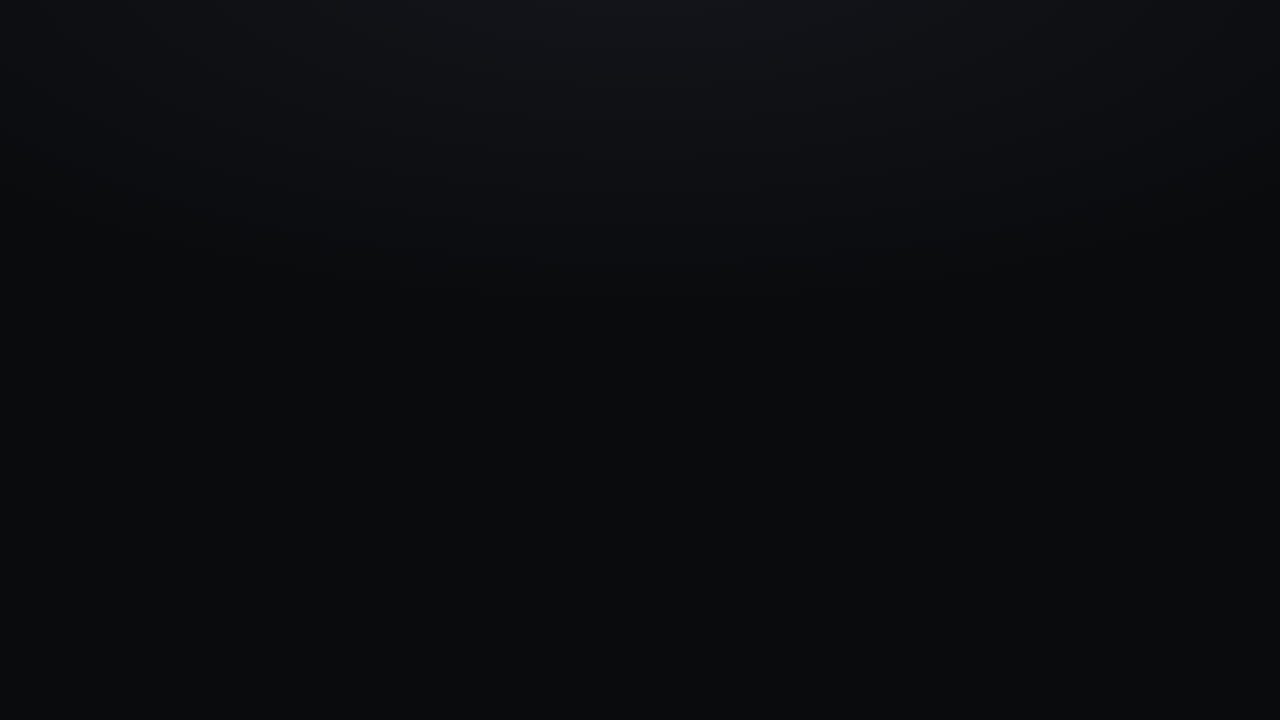
CommandPalette (⌘K fuzzy + recents + keyboard nav) › typing fuzzy-filters via rankTools
Press k
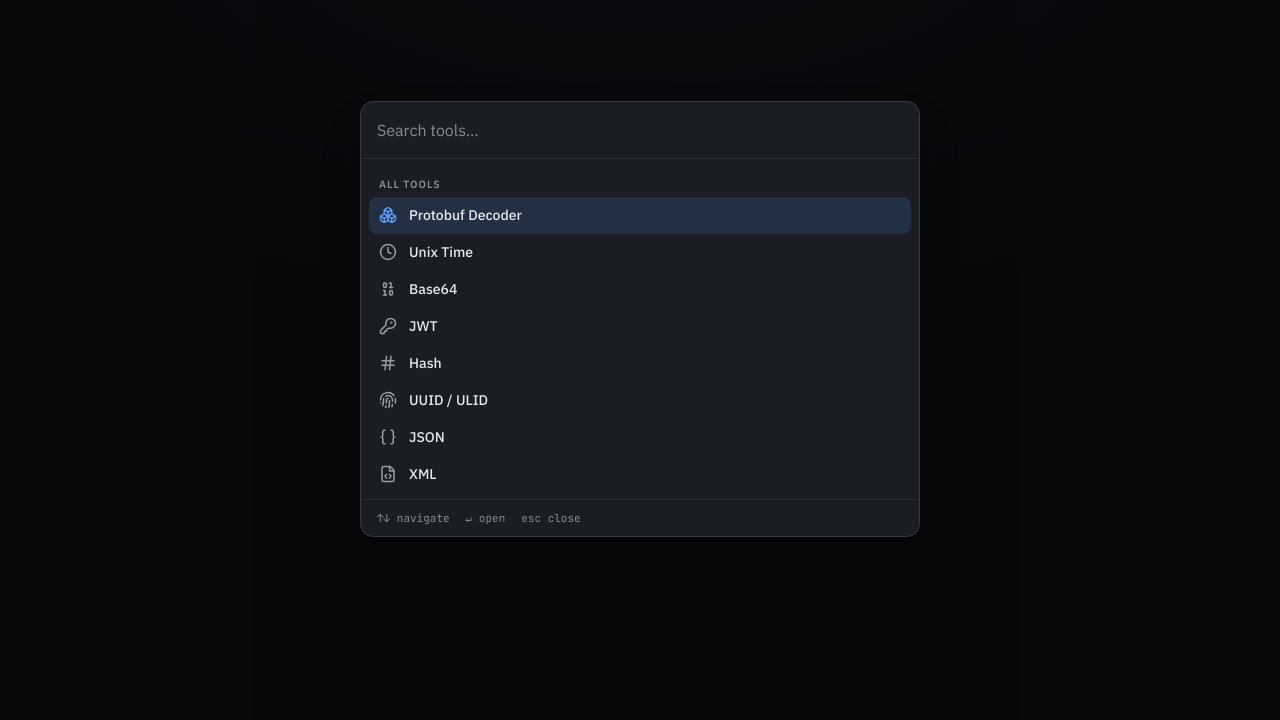
Type "proto" into the field with placeholder "Search tools…".
click(640, 130); type("proto")  # box [377,118,903,142]
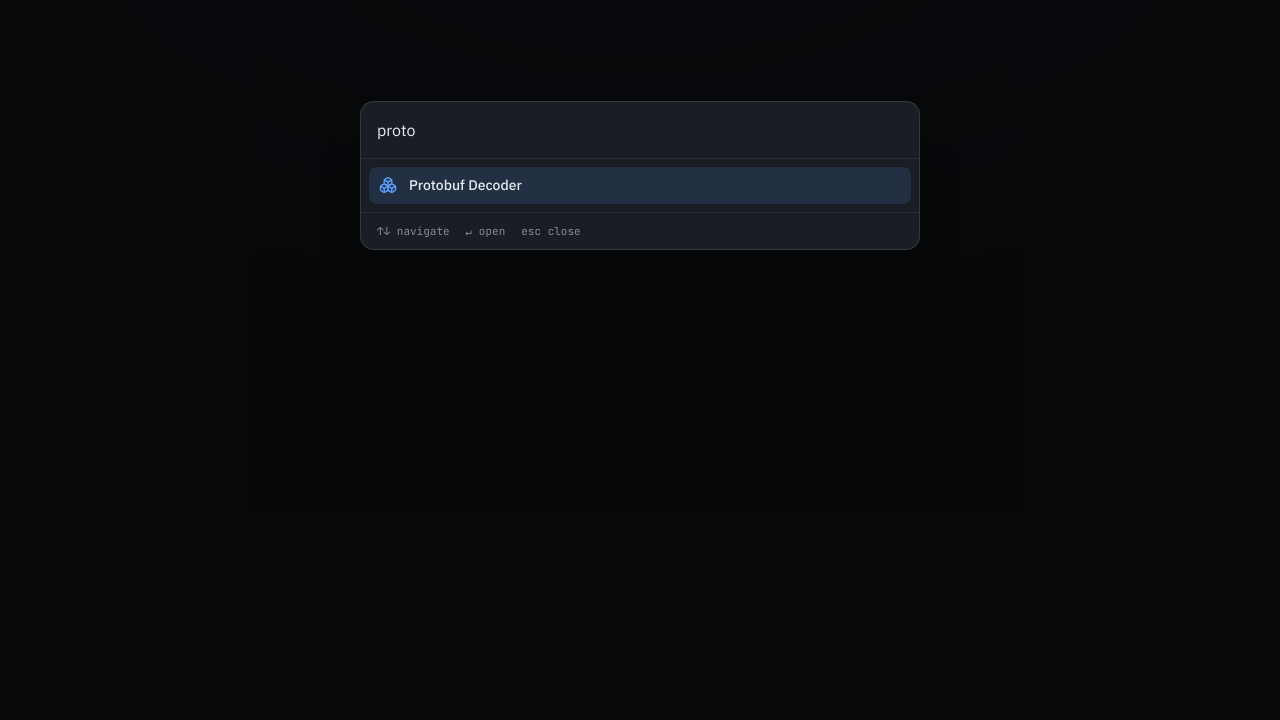
Check: the text "Protobuf Decoder" is shown, box [409,176,522,194]
Check: the button "Unix Time" is gone
